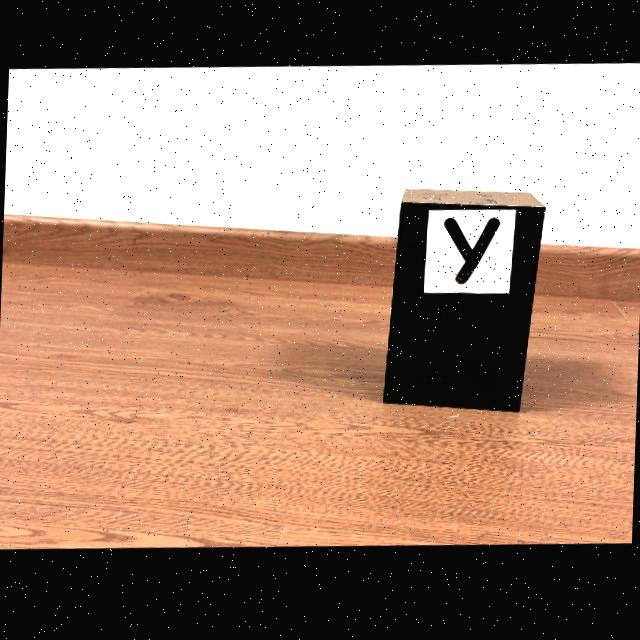Y: (444, 221, 499, 288)
